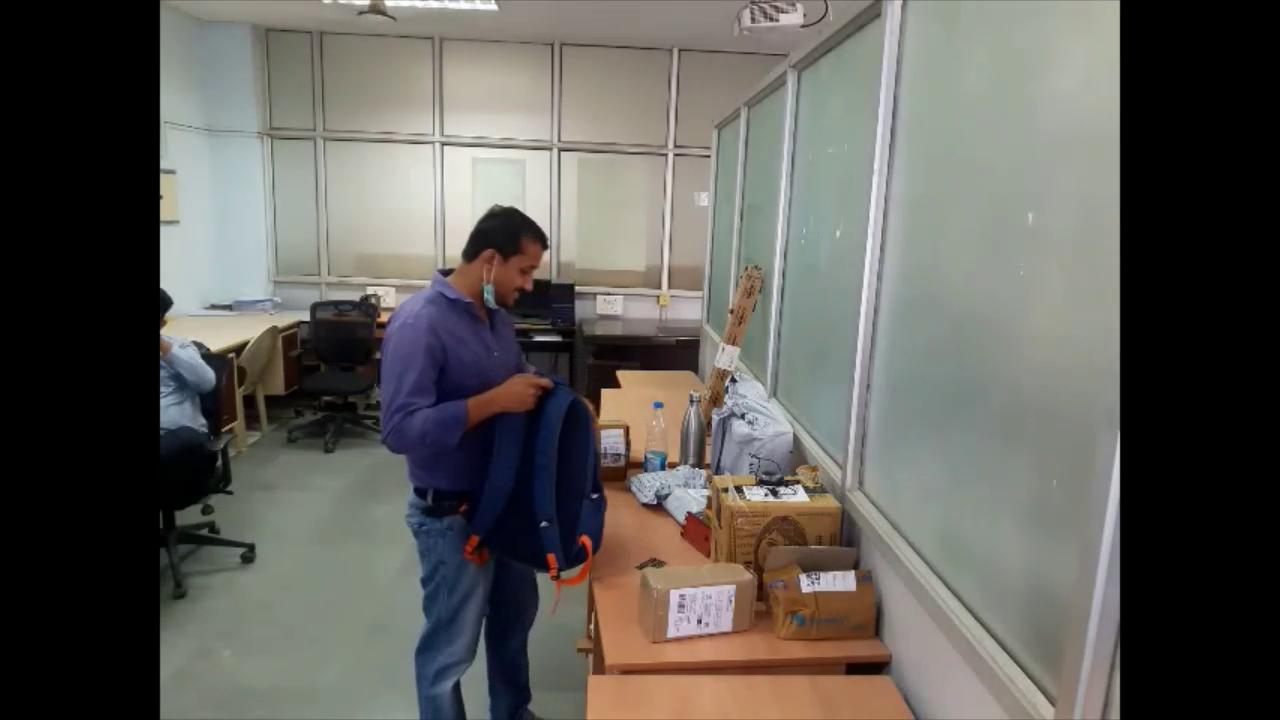shoplifting: (394, 200, 616, 720)
